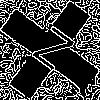Z: (25, 25, 76, 80)
